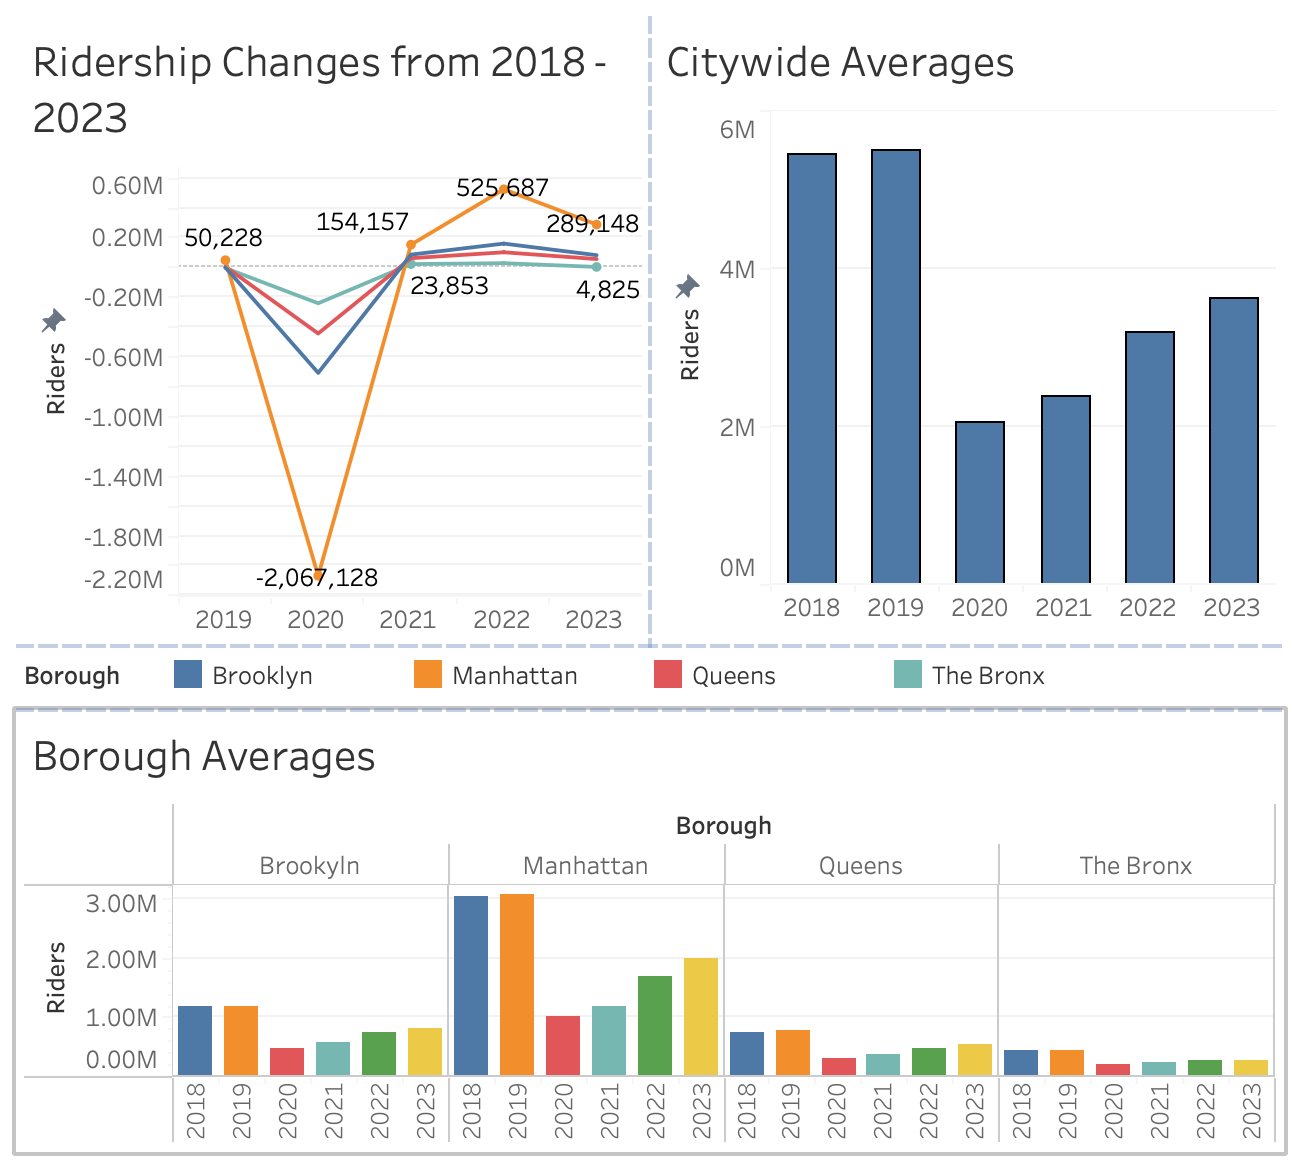

The dashboard page shown, as its layout file describes it:
{"tool":"tableau","page":{"name":"Subway Changes","canvas":[650,860],"ordinal":0},"visuals":[{"type":"worksheet","title":"Ridership Change","mark":"Line","box":[8,11.8,317,463.9]},{"type":"worksheet","title":"Year Avgs","mark":"Bar","box":[325,11.8,317,463.9]},{"type":"legend","title":"Ridership Change","param":"[federated.0zd2gcp0jy9hgq1d4wgra0ul5rsq].[none:borough:nk]","box":[8,475.6,634,47.1]},{"type":"worksheet","title":"Boro avgs","mark":"Automatic","cols":["borough"],"box":[8,522.8,634,325.4]}]}

Visuals, with their boxes on the page's 650x860 design canvas (x1, y1, x2, y2). These are canvas units, not pixel positions in the 1296x1160 screenshot, which may show the page scaled, cropped or inside an application window:
"Ridership Change" worksheet (Line marks): l=8, t=12, r=325, b=476
"Year Avgs" worksheet (Bar marks): l=325, t=12, r=642, b=476
"Ridership Change" legend: l=8, t=476, r=642, b=523
"Boro avgs" worksheet: l=8, t=523, r=642, b=848
